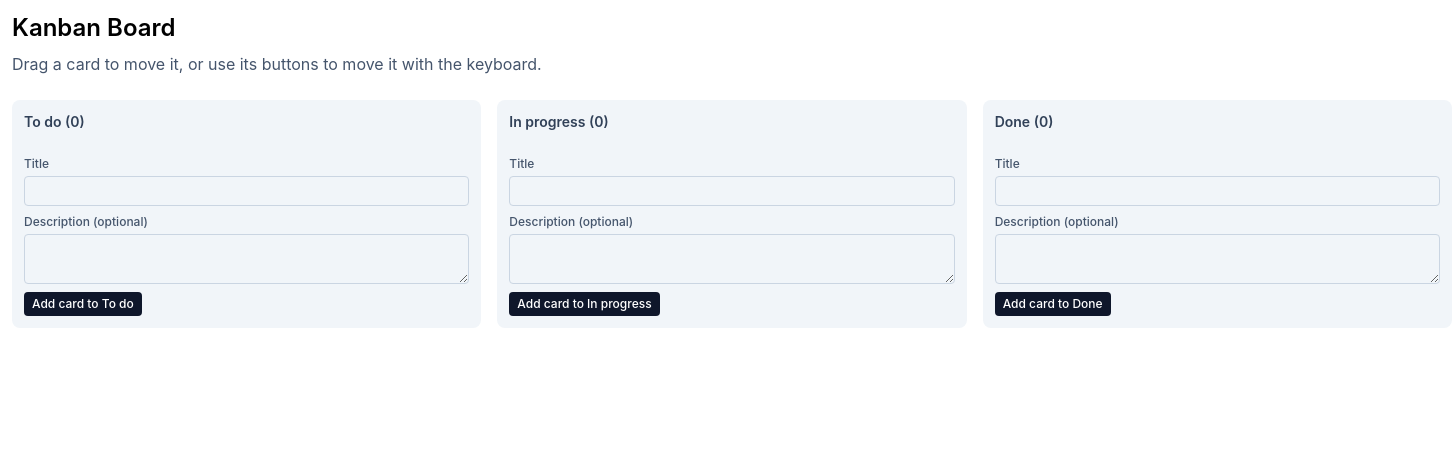
Test: deletes a card
Type "Temp card" into the 1st field labelled "Title" at x=247, y=191, box [24, 176, 469, 206]
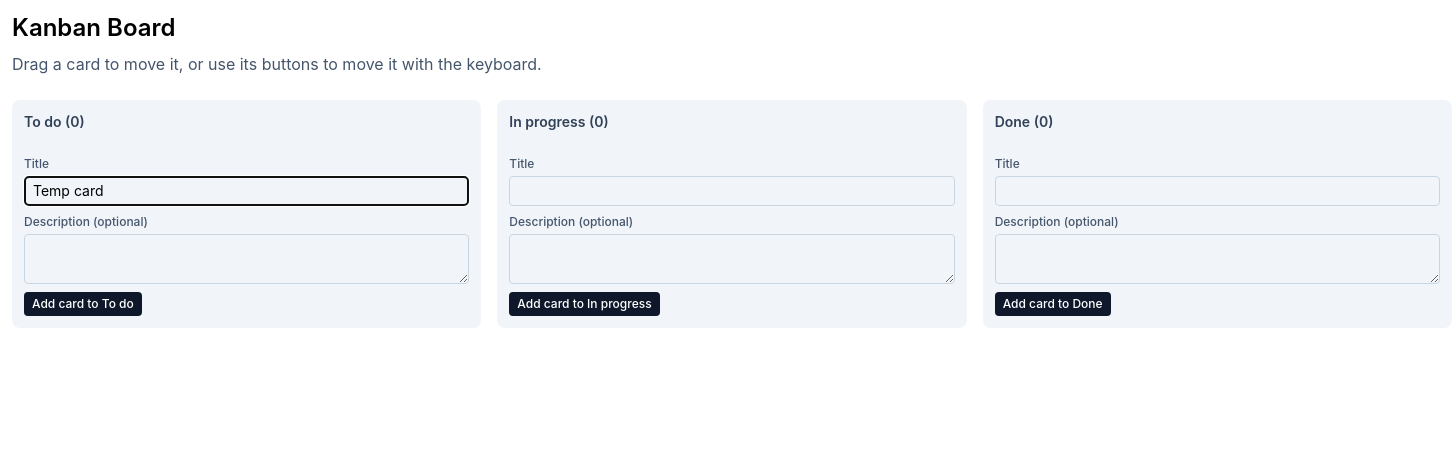
Click the button "Add card to To do" at x=83, y=304, box [24, 292, 142, 316]
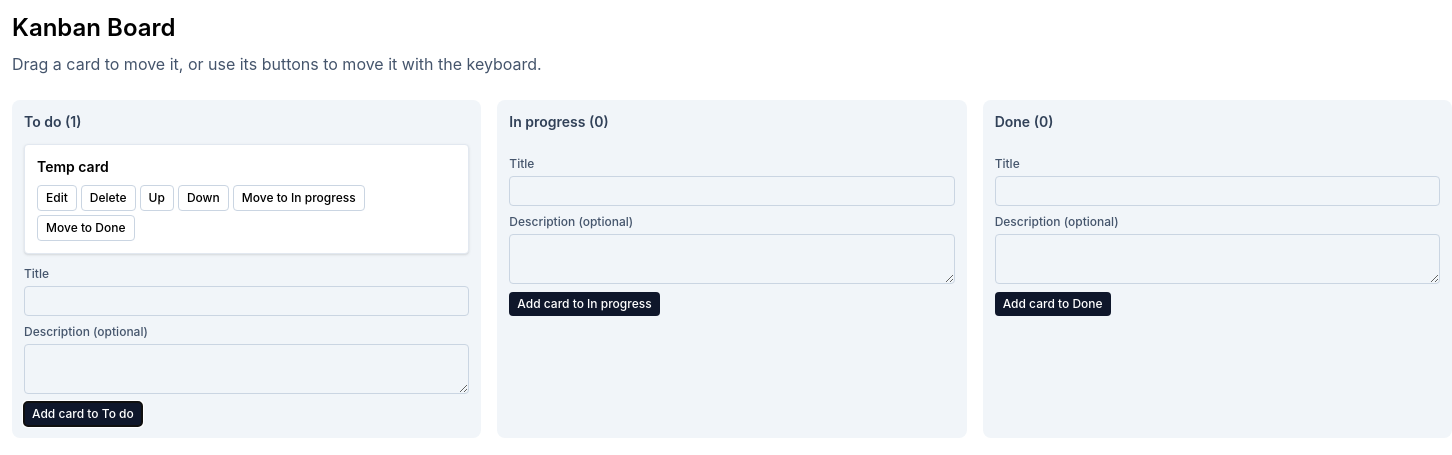
Click the button named "Delete \"Temp card\"" at x=108, y=198, box [81, 185, 136, 211]
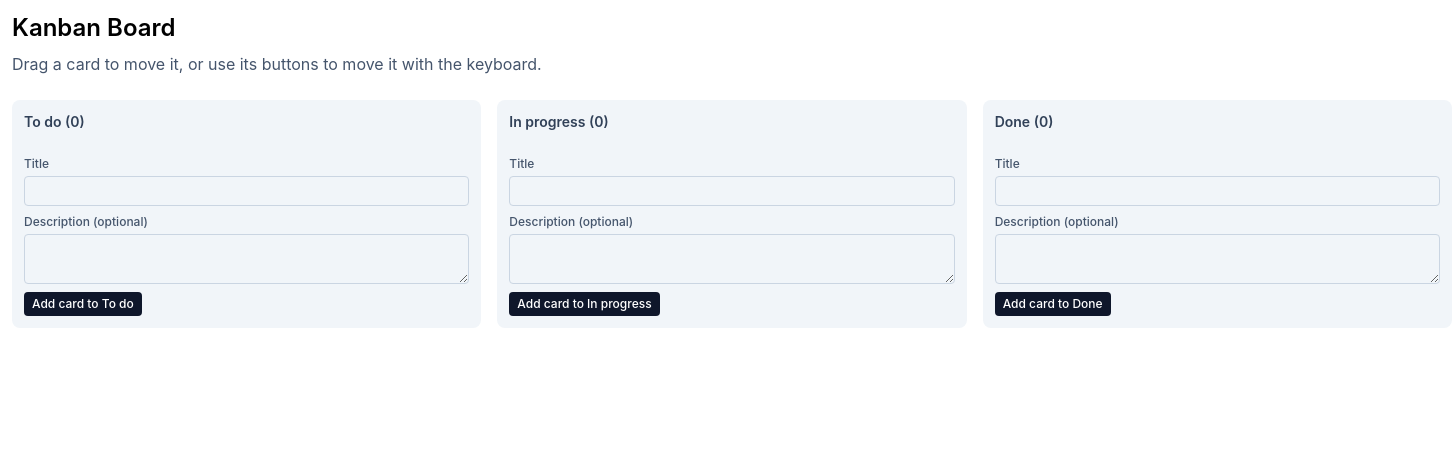
expect the heading "Temp card" is gone: met
expect the heading "To do (0)" is shown: met, box [24, 113, 85, 130]
